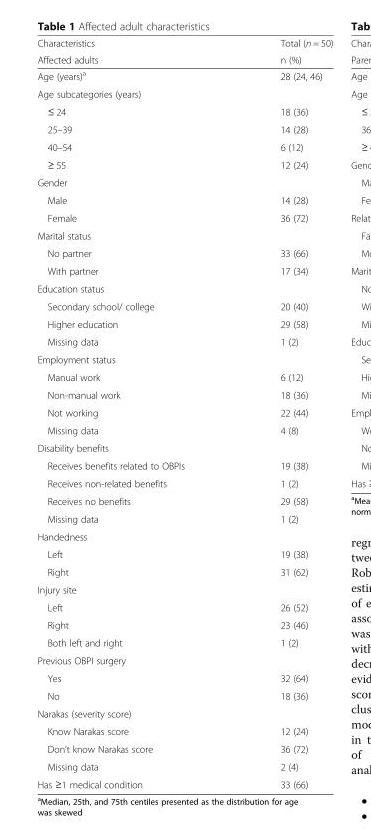table: (36, 37, 332, 789)
table column: (36, 37, 231, 789), (231, 37, 332, 789)
table column header: (36, 37, 332, 66)
table projected row header: (36, 84, 332, 102), (36, 173, 332, 191), (36, 226, 332, 244), (36, 279, 332, 297), (36, 350, 332, 368), (36, 438, 332, 456), (36, 527, 332, 545), (36, 580, 332, 598), (36, 651, 332, 669), (36, 704, 332, 722)
table row: (36, 66, 332, 84), (36, 84, 332, 102), (36, 102, 332, 120), (36, 137, 332, 155), (36, 155, 332, 173), (36, 173, 332, 191), (36, 208, 332, 226), (36, 226, 332, 244), (36, 261, 332, 279), (36, 279, 332, 297), (36, 314, 332, 332), (36, 332, 332, 350), (36, 350, 332, 368), (36, 385, 332, 403), (36, 403, 332, 421), (36, 438, 332, 456), (36, 456, 332, 474), (36, 474, 332, 492), (36, 509, 332, 527), (36, 527, 332, 545), (36, 562, 332, 580), (36, 580, 332, 598), (36, 615, 332, 633), (36, 633, 332, 651), (36, 651, 332, 669), (36, 686, 332, 704), (36, 704, 332, 722), (36, 739, 332, 757), (36, 757, 332, 775), (36, 120, 332, 137), (36, 191, 332, 208), (36, 244, 332, 261), (36, 297, 332, 314), (36, 368, 332, 385), (36, 421, 332, 438), (36, 492, 332, 509), (36, 545, 332, 562), (36, 598, 332, 615), (36, 669, 332, 686), (36, 722, 332, 739), (36, 51, 332, 66), (36, 37, 332, 51), (36, 775, 332, 789)
table spanning cell: (36, 37, 231, 66), (231, 37, 332, 66)
